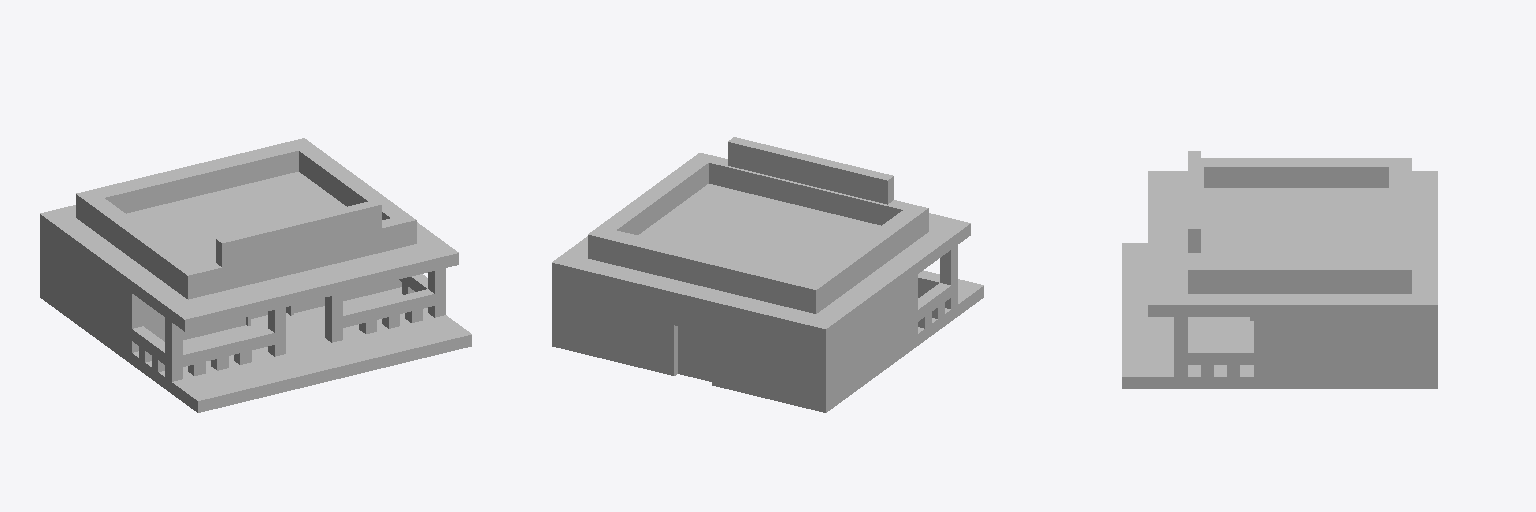
File: CabineDelegado.obj
3 renders of one model, left to right at view 1: azimuth 30°, elevation 25°; view 2: azimuth 150°, elevation 25°; view 3: azimuth 270°, elevation 25°, orthographic.
Parts seen in each view (by area): view 1: object 1; view 2: object 1; view 3: object 1.
Part boxes in pixels (x1,y1,x2,y2): object 1: (40, 138, 471, 412); object 1: (552, 137, 983, 412); object 1: (1122, 151, 1437, 388).
Bounding box in the file's own units: 9.6 × 4.4 × 9.6.